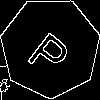P: (25, 22, 78, 80)
